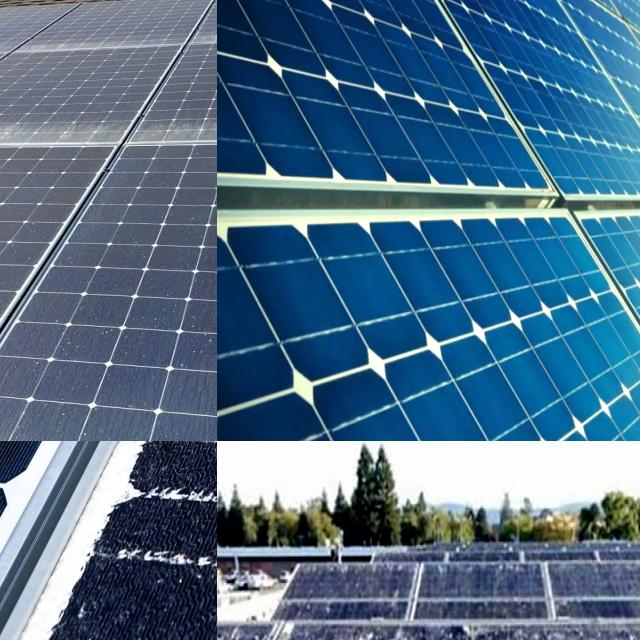crack: (217, 204, 640, 441), (217, 0, 640, 200)
dust: (61, 222, 217, 377), (0, 249, 83, 350), (0, 384, 144, 441), (0, 112, 165, 149), (0, 373, 57, 422), (16, 37, 170, 53), (136, 111, 217, 134), (162, 420, 215, 441), (0, 46, 60, 57)
hotspot: (168, 474, 217, 615), (178, 441, 217, 479)
